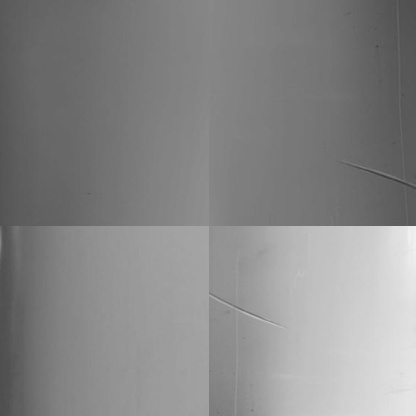sunshang: (208, 287, 283, 328), (340, 156, 415, 191)
